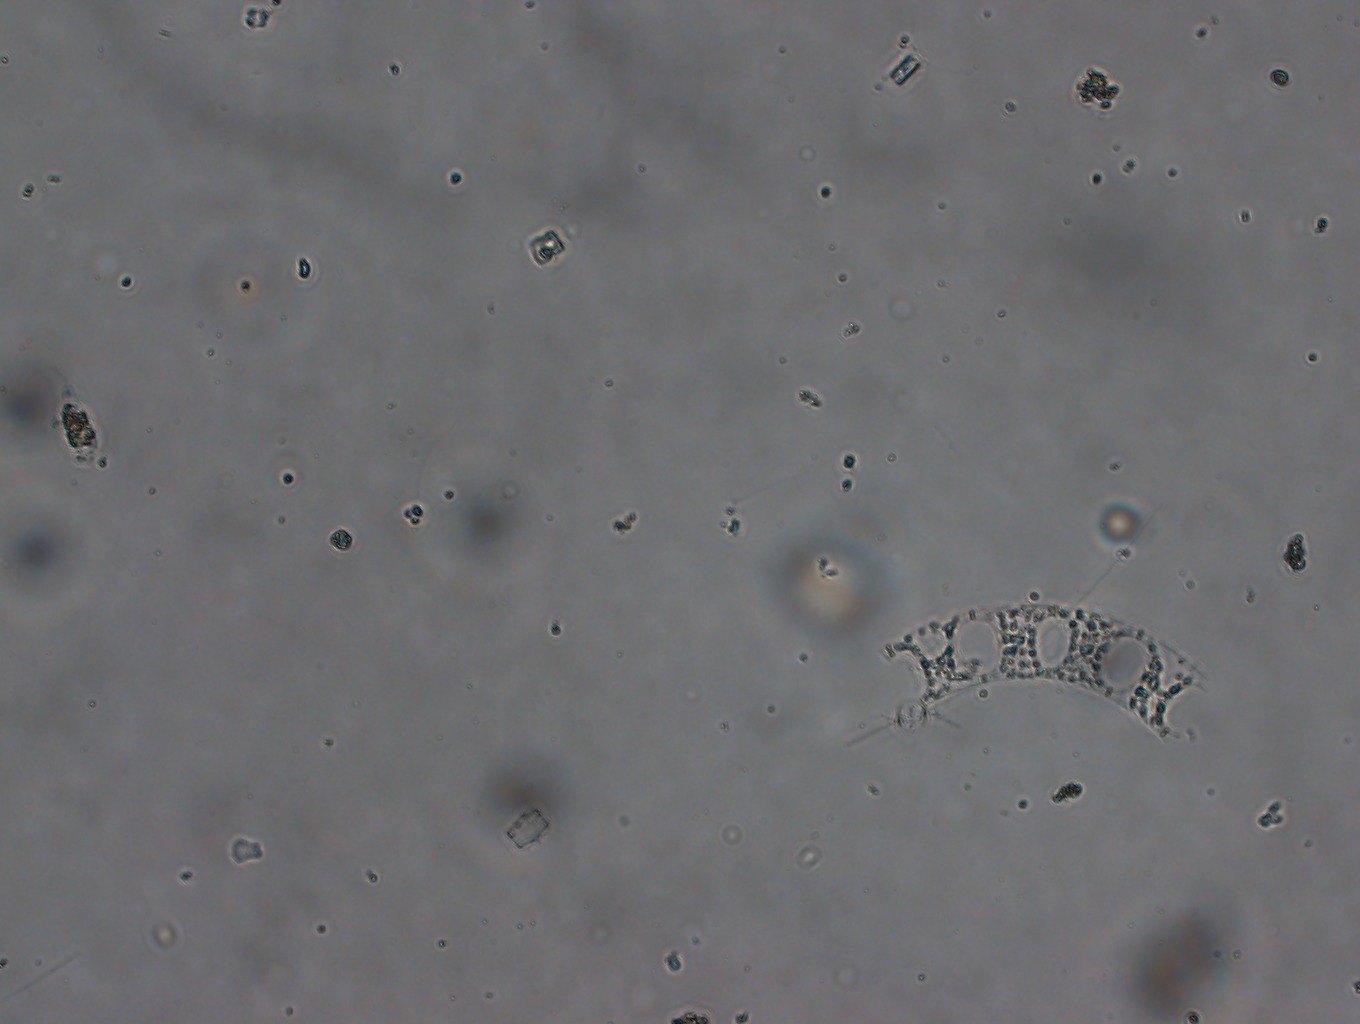eucampia: (864, 583, 1212, 746)
